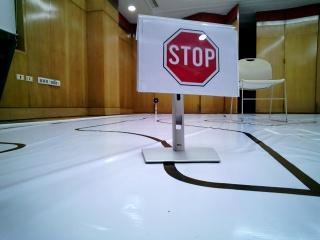stop: (140, 23, 243, 96)
